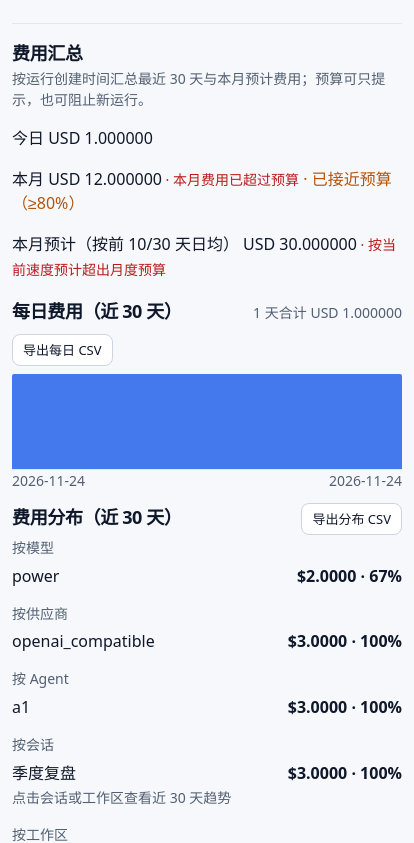
Scenario: CostSummarySection monthly budget › drills into a conversation cost series
Click the button with test id "cost-conversation-c1" at x=44, y=773, box x1=12 y1=761 x2=402 y2=785
(page scrolled)
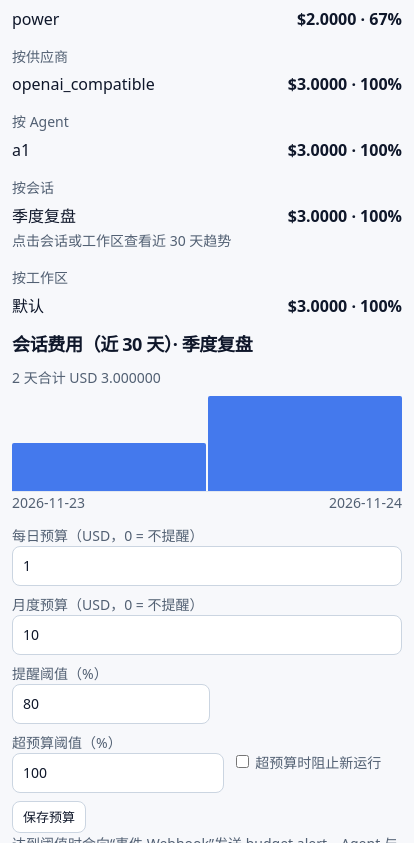
Result: the element with test id "cost-conversation-series" is shown at x1=12 y1=331 x2=402 y2=513
Result: the text "会话费用（近 30 天）· 季度复盘" is shown at x1=12 y1=331 x2=252 y2=359
Result: the number of elements with test id "cost-series-bar" is 2 at x1=12 y1=443 x2=206 y2=491; x1=208 y1=396 x2=402 y2=491
